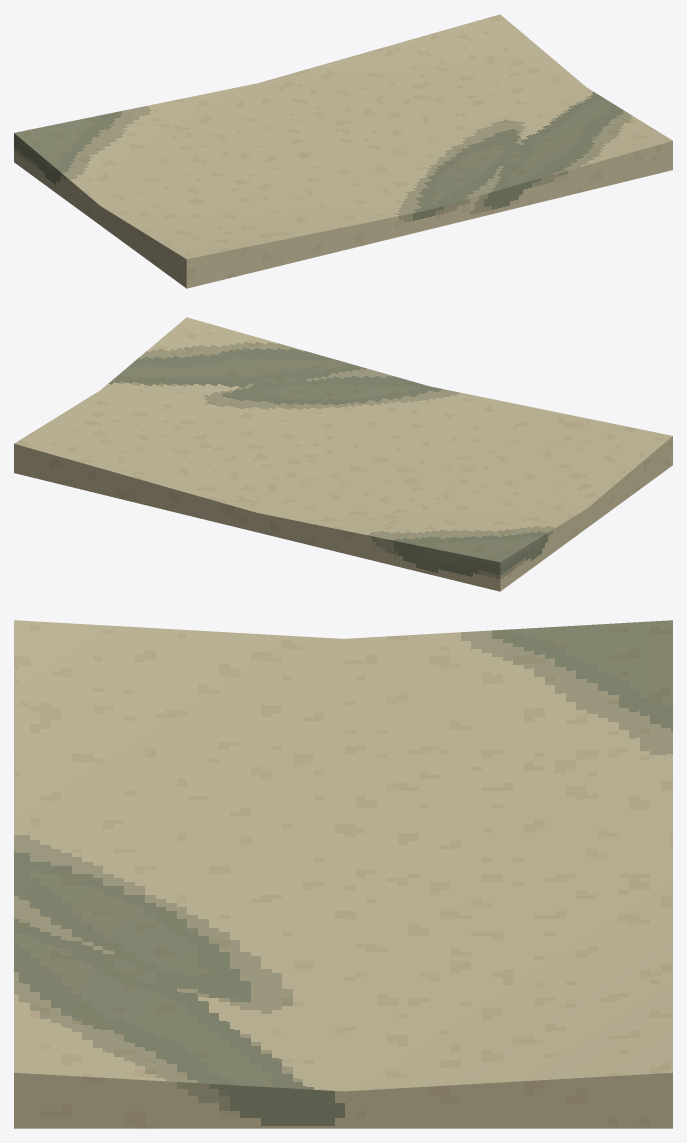
The model's file is 0363_Square_Dish.glb.
The picture shows the model from 3 angles, top to bottom: view 1: azimuth 30°, elevation 25°; view 2: azimuth 150°, elevation 25°; view 3: azimuth 270°, elevation 25°; orthographic projection. The views are drawn at different scales.
Parts seen in each view (by area): view 1: part_0; view 2: part_0; view 3: part_0.
Part boxes in pixels (x1,y1,x2,y2): part_0: [14, 14, 672, 288]; part_0: [14, 317, 672, 591]; part_0: [14, 620, 672, 1128].
Size of the model in its own units: 0.26 by 0.025 by 0.16.
Materials: 1 (1 with a texture image).
